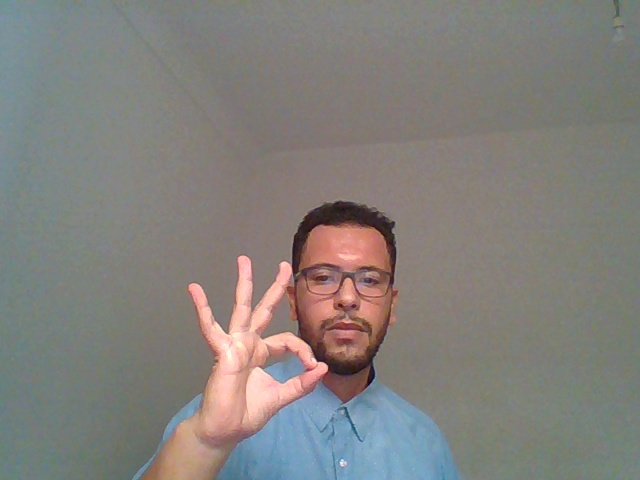okay: (152, 219, 324, 465)
